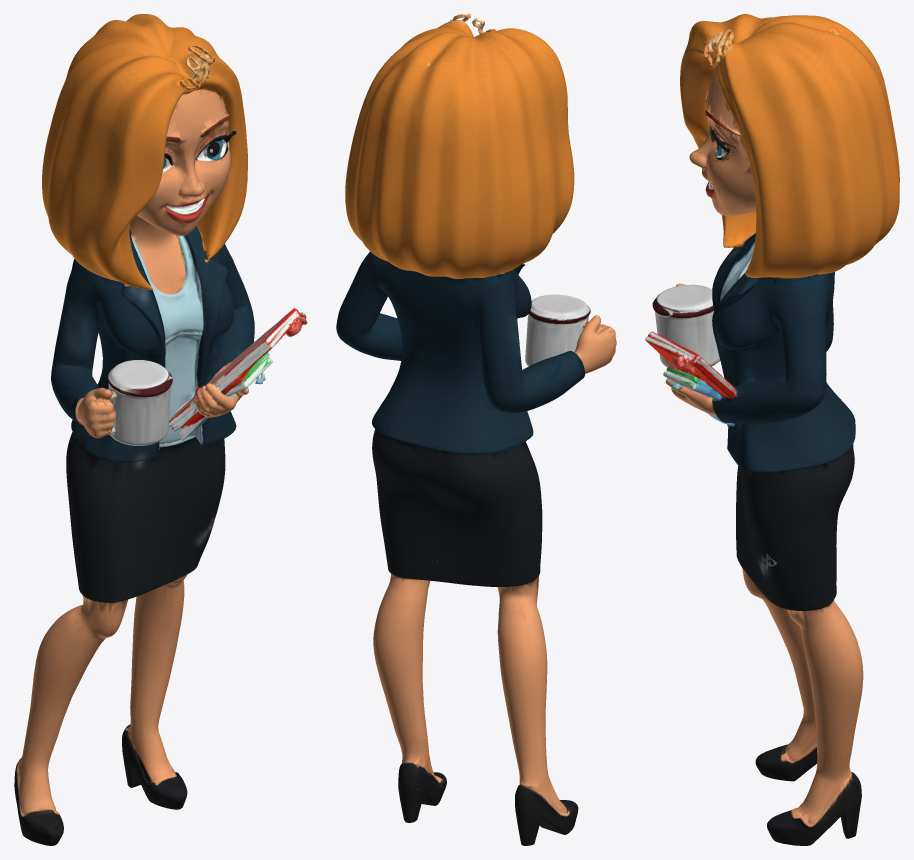
The model's file is lena.glb.
3 views of the same model, side by side, from view 1: azimuth 30°, elevation 25°; view 2: azimuth 150°, elevation 25°; view 3: azimuth 270°, elevation 25° (orthographic). The views are drawn at different scales.
Visible parts, largest first — view 1: tripo_node_67b84563-a688-4bc9-9790-fce54333f00b; view 2: tripo_node_67b84563-a688-4bc9-9790-fce54333f00b; view 3: tripo_node_67b84563-a688-4bc9-9790-fce54333f00b.
Part boxes in pixels (<box>): tripo_node_67b84563-a688-4bc9-9790-fce54333f00b: <box>14,14,307,845</box>; tripo_node_67b84563-a688-4bc9-9790-fce54333f00b: <box>336,14,616,845</box>; tripo_node_67b84563-a688-4bc9-9790-fce54333f00b: <box>645,14,899,845</box>.
Bounding box in the file's own units: 0.3017 × 0.9786 × 0.2794.
Materials: 1 (1 with a texture image).
